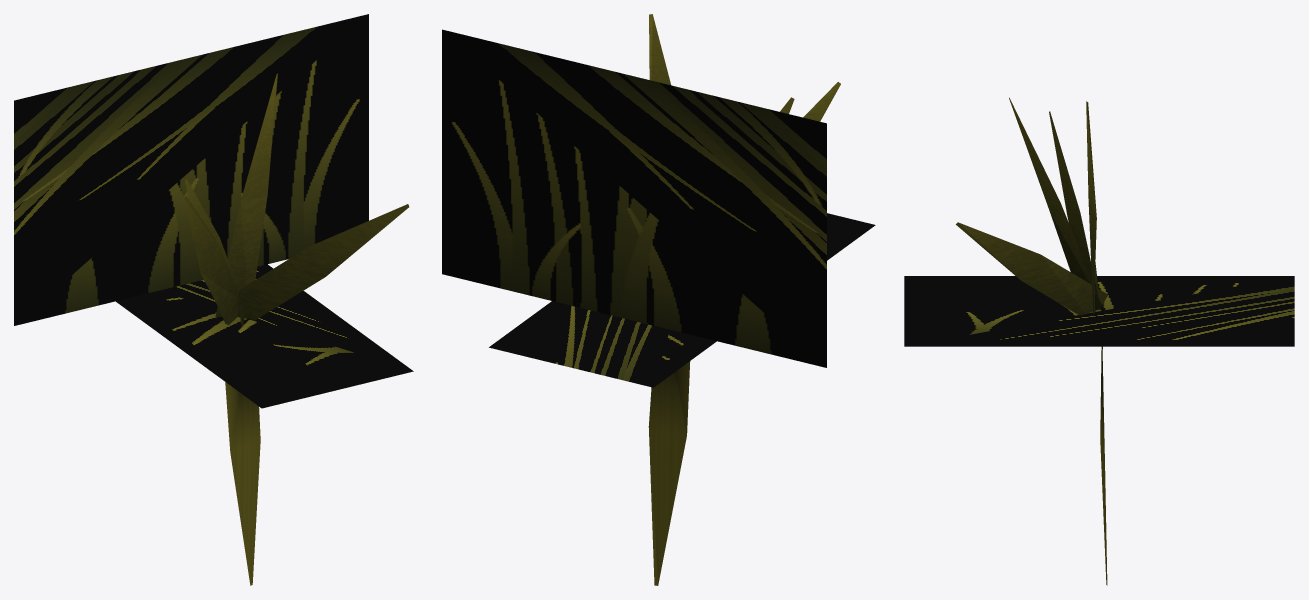
Rendered from grass.glb.
3 renders of one model, left to right at view 1: azimuth 30°, elevation 25°; view 2: azimuth 150°, elevation 25°; view 3: azimuth 270°, elevation 25°, orthographic. The views are drawn at different scales.
Visible parts, largest first — view 1: grass_impostor, tuft_tall; view 2: grass_impostor, tuft_tall; view 3: grass_impostor, tuft_tall.
Part boxes in pixels (<box>): grass_impostor: <box>14,14,413,408</box>; tuft_tall: <box>184,73,409,585</box>; grass_impostor: <box>442,29,875,387</box>; tuft_tall: <box>648,14,840,585</box>; grass_impostor: <box>904,276,1294,346</box>; tuft_tall: <box>956,97,1107,585</box>.
Bounding box in the file's own units: 0.28 × 0.3887 × 0.28.
2 materials, 2 textured.
